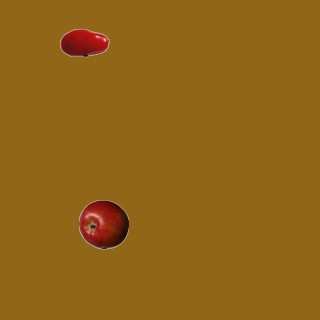Apple Braeburn: (78, 199, 128, 249)
Tomato 2: (59, 17, 109, 67)
